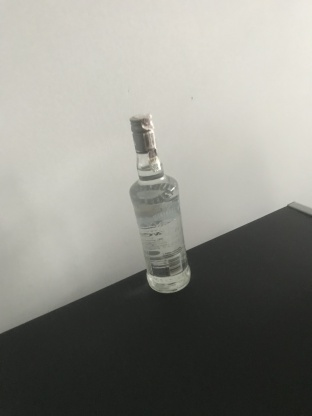nakretka: (127, 112, 158, 154)
